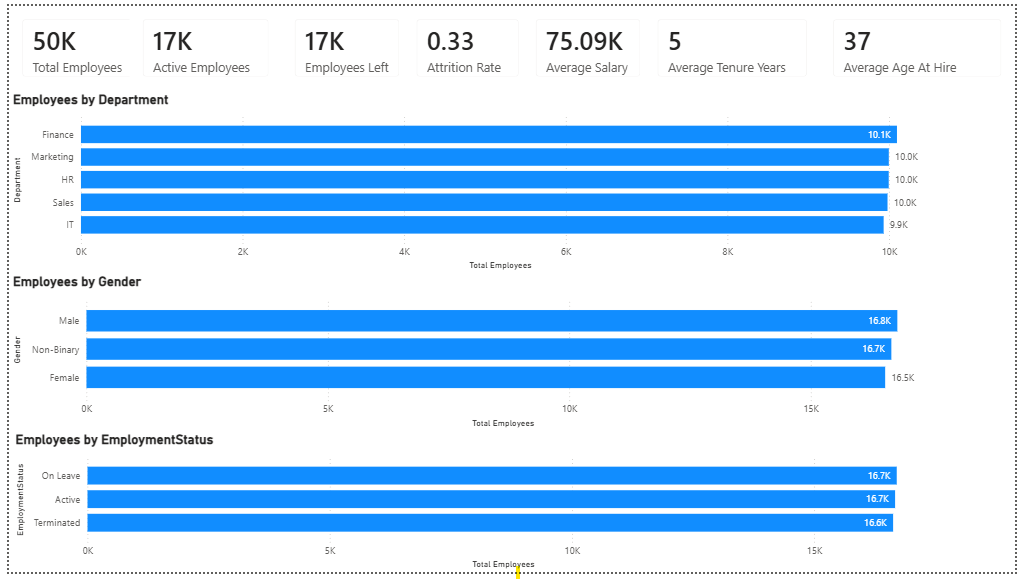

What the dashboard file says about the page in this screenshot:
{"tool":"powerbi","page":{"name":"Page 1","canvas":[1280,720],"ordinal":0},"visuals":[{"type":"cardVisual","fields":{"Data":["HR_cleaned_data_for_powerbi.Total Employees"]},"box":[0,0,184.9,107.9],"z":0},{"type":"cardVisual","fields":{"Data":["HR_cleaned_data_for_powerbi.Active Employees"]},"box":[152.6,0,194.2,107.9],"z":1000},{"type":"cardVisual","fields":{"Data":["HR_cleaned_data_for_powerbi.Employees Left"]},"box":[346.7,0,168,107.9],"z":2000},{"type":"cardVisual","fields":{"Data":["HR_cleaned_data_for_powerbi.Attrition Rate"]},"box":[500.8,0,164.9,107.9],"z":3000},{"type":"cardVisual","fields":{"Data":["HR_cleaned_data_for_powerbi.Average Salary"]},"box":[653.4,0,168,107.9],"z":4000},{"type":"cardVisual","fields":{"Data":["HR_cleaned_data_for_powerbi.Average Tenure Years"]},"box":[807.5,0,225,107.9],"z":5000},{"type":"cardVisual","fields":{"Data":["HR_cleaned_data_for_powerbi.Average Age At Hire"]},"box":[1032.5,0,248.1,107.9],"z":6000},{"type":"barChart","title":"Employees by Department","fields":{"Category":["HR_cleaned_data_for_powerbi.Department"],"Y":["HR_cleaned_data_for_powerbi.Total Employees"]},"box":[0,108.3,1173.9,232.4],"z":7000},{"type":"barChart","title":" Employees by Gender","fields":{"Category":["HR_cleaned_data_for_powerbi.Gender"],"Y":["HR_cleaned_data_for_powerbi.Total Employees"]},"box":[0,340.8,1173.9,200.9],"z":8000},{"type":"barChart","title":"Employees by EmploymentStatus","fields":{"Y":["HR_cleaned_data_for_powerbi.Total Employees"],"Category":["HR_cleaned_data_for_powerbi.EmploymentStatus"]},"box":[3.9,541.7,1170,179.2],"z":9000}]}

Visuals, with their boxes in screenshot pixels (x1, y1, x2, y2), scaled from the page's 1280x720 canvas onto the 1031x581 screenshot:
cardVisual - HR_cleaned_data_for_powerbi.Total Employees: 0 0 149 87
cardVisual - HR_cleaned_data_for_powerbi.Active Employees: 123 0 279 87
cardVisual - HR_cleaned_data_for_powerbi.Employees Left: 279 0 415 87
cardVisual - HR_cleaned_data_for_powerbi.Attrition Rate: 403 0 536 87
cardVisual - HR_cleaned_data_for_powerbi.Average Salary: 526 0 662 87
cardVisual - HR_cleaned_data_for_powerbi.Average Tenure Years: 650 0 832 87
cardVisual - HR_cleaned_data_for_powerbi.Average Age At Hire: 832 0 1030 87
"Employees by Department" barChart: 0 87 946 275
" Employees by Gender" barChart: 0 275 946 437
"Employees by EmploymentStatus" barChart: 3 437 946 580
